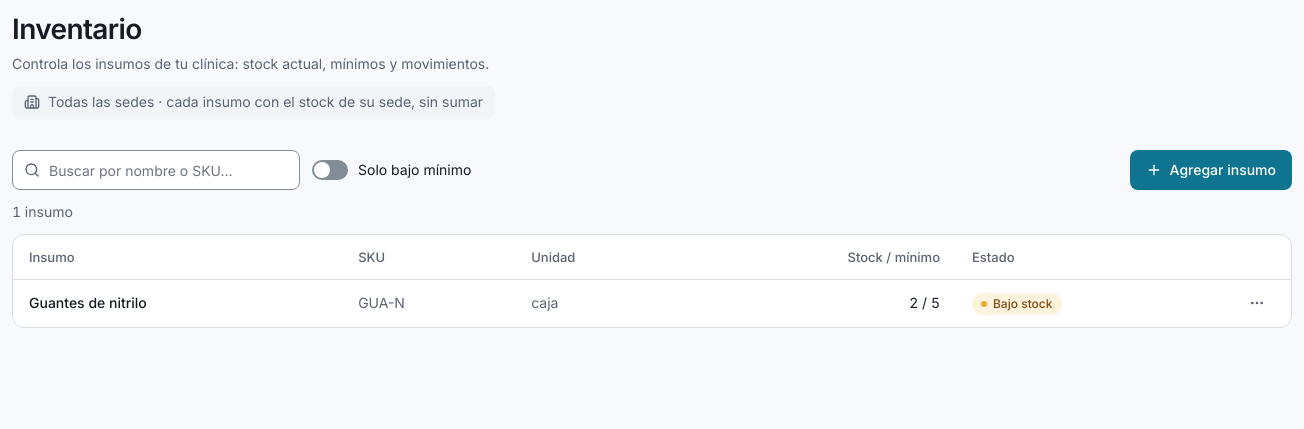
Test: buscador, filtro de bajo mínimo y paginación › con filtros y cero resultados muestra "ningún insumo coincide", distinto del inventario vacío
Expected: the table named "inventario" is shown, [13,235,1291,326]
Click the switch labelled "Solo bajo mínimo" at (330, 170), box [312,160,348,180]
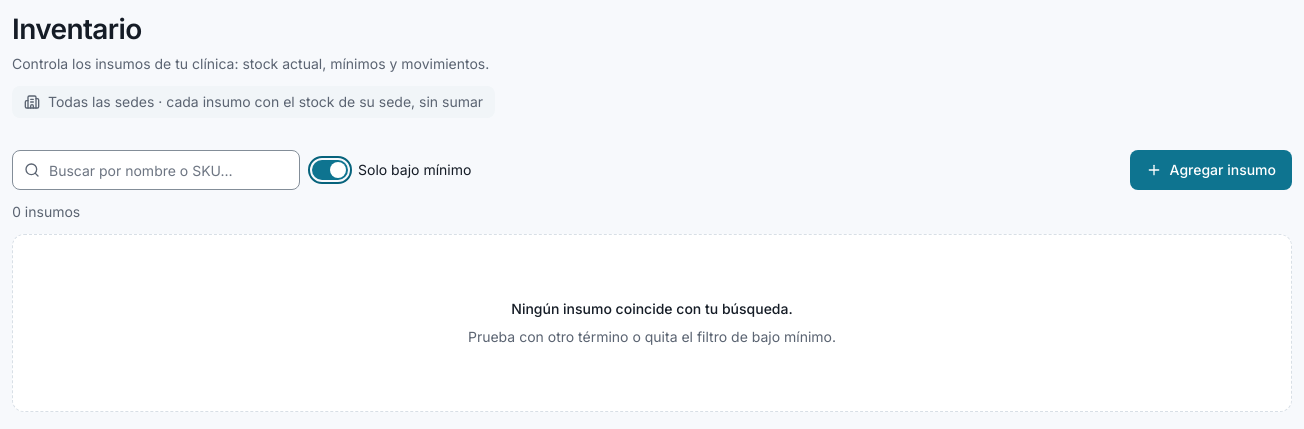
Now the text "Ningún insumo coincide con tu búsqueda." is shown, box [511,299,793,319]
